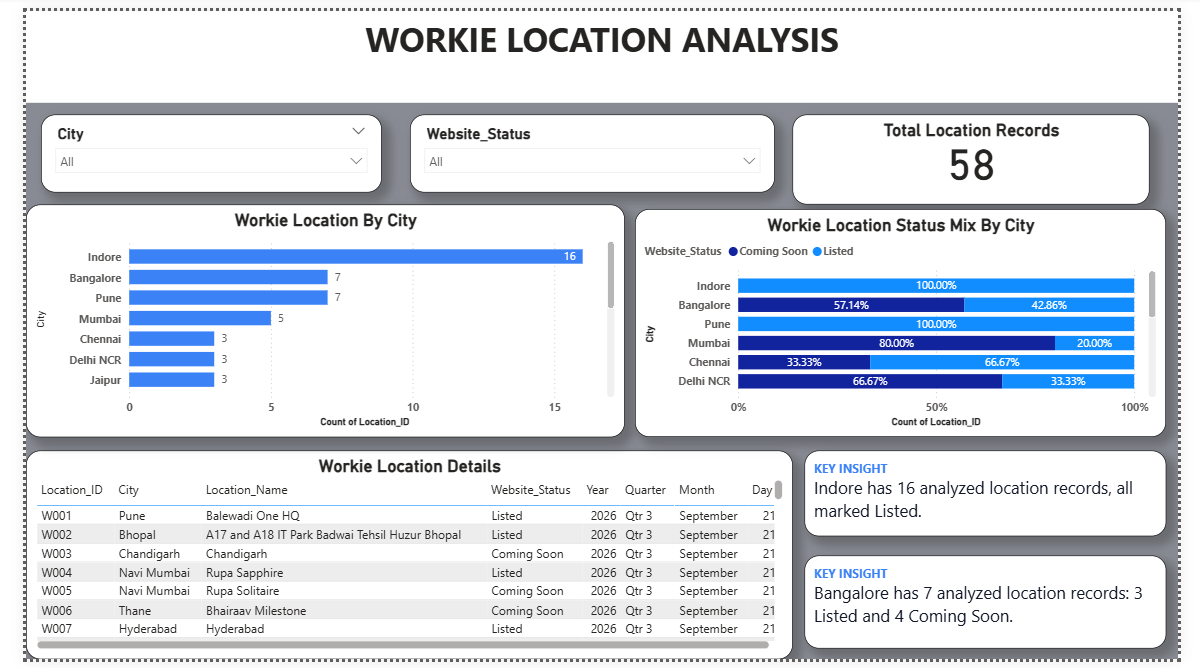

The page's visual inventory and layout, read from the dashboard file:
{"tool":"powerbi","page":{"name":"Workie Location Analysis","canvas":[1280,720],"ordinal":1},"visuals":[{"type":"textbox","box":[0,0,1280,101.7],"z":0},{"type":"slicer","fields":{"Values":["Workie_Competitor_Analysis_Master_V2_Clean.City"]},"box":[16.7,115,378.3,86.7],"z":1000},{"type":"slicer","fields":{"Values":["Workie_Competitor_Analysis_Master_V2_Clean.Website_Status"]},"box":[426.7,115,405,86.7],"z":2000},{"type":"tableEx","title":"Workie Location Details","fields":{"Values":["Workie_Competitor_Analysis_Master_V2_Clean.Location_ID","Workie_Competitor_Analysis_Master_V2_Clean.City","Workie_Competitor_Analysis_Master_V2_Clean.Location_Name","Workie_Competitor_Analysis_Master_V2_Clean.Website_Status","Workie_Competitor_Analysis_Master_V2_Clean.Verified_Date.Variation.Date Hierarchy.Year","Workie_Competitor_Analysis_Master_V2_Clean.Verified_Date.Variation.Date Hierarchy.Quarter","Workie_Competitor_Analysis_Master_V2_Clean.Verified_Date.Variation.Date Hierarchy.Month","Workie_Competitor_Analysis_Master_V2_Clean.Verified_Date.Variation.Date Hierarchy.Day"]},"box":[0,488.3,851.7,231.7],"z":3000},{"type":"clusteredBarChart","title":"Workie Location By City","fields":{"Category":["Workie_Competitor_Analysis_Master_V2_Clean.City"],"Y":["CountNonNull(Workie_Competitor_Analysis_Master_V2_Clean.Location_ID)"]},"box":[0,215,665,258.3],"z":4000},{"type":"card","title":"Total Location Records","fields":{"Values":["CountNonNull(Workie_Competitor_Analysis_Master_V2_Clean.Location_ID)"]},"box":[851.7,115,396.7,100],"z":5000},{"type":"hundredPercentStackedBarChart","title":"Workie Location Status Mix By City","fields":{"Category":["Workie_Competitor_Analysis_Master_V2_Clean.City"],"Y":["CountNonNull(Workie_Competitor_Analysis_Master_V2_Clean.Location_ID)"],"Series":["Workie_Competitor_Analysis_Master_V2_Clean.Website_Status"]},"box":[676.7,220,590,253.3],"z":6000},{"type":"textbox","box":[865,488.3,401.7,95],"z":7000},{"type":"textbox","box":[865,605,401.7,103.3],"z":8000}]}

Visuals, with their boxes in screenshot pixels (x1, y1, x2, y2), scaled from the page's 1280x720 canvas onto the 1200x668 screenshot:
textbox: bbox(0, 0, 1199, 94)
slicer - Workie_Competitor_Analysis_Master_V2_Clean.City: bbox(16, 107, 370, 187)
slicer - Workie_Competitor_Analysis_Master_V2_Clean.Website_Status: bbox(400, 107, 780, 187)
"Workie Location Details" tableEx: bbox(0, 453, 798, 667)
"Workie Location By City" clusteredBarChart: bbox(0, 199, 623, 439)
"Total Location Records" card: bbox(798, 107, 1170, 199)
"Workie Location Status Mix By City" hundredPercentStackedBarChart: bbox(634, 204, 1188, 439)
textbox: bbox(811, 453, 1188, 541)
textbox: bbox(811, 561, 1188, 657)
